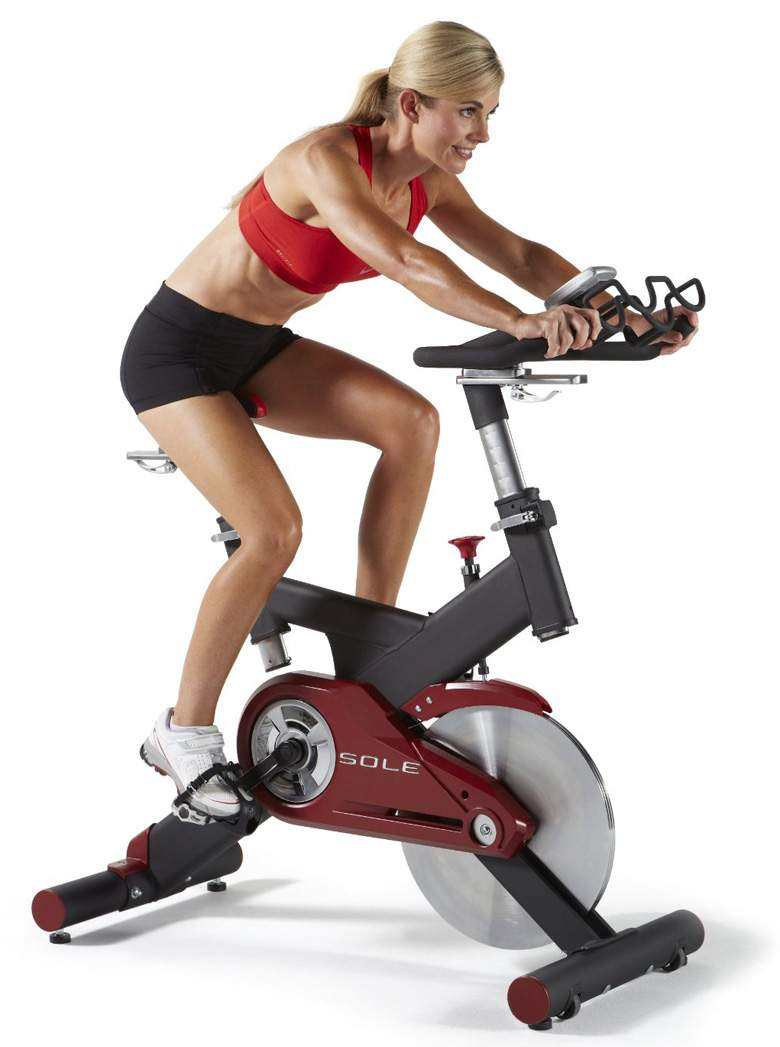gym_bike: (35, 271, 743, 1032)
